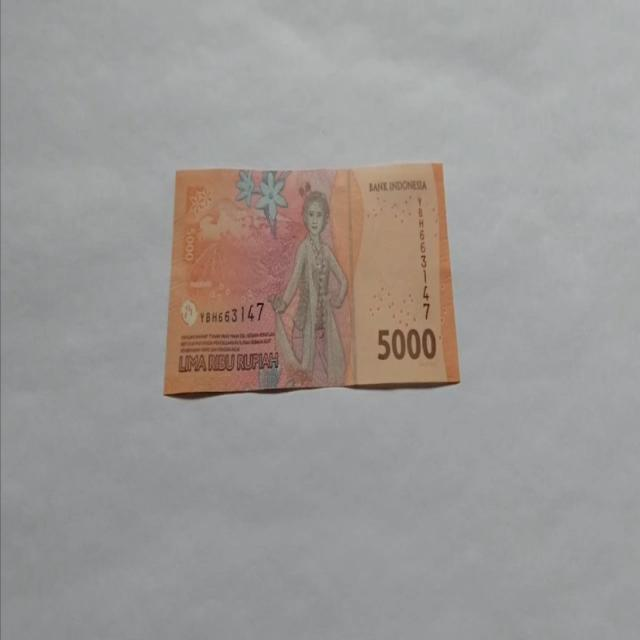lima ribu rupiah: (162, 161, 460, 396), (266, 188, 350, 388)
